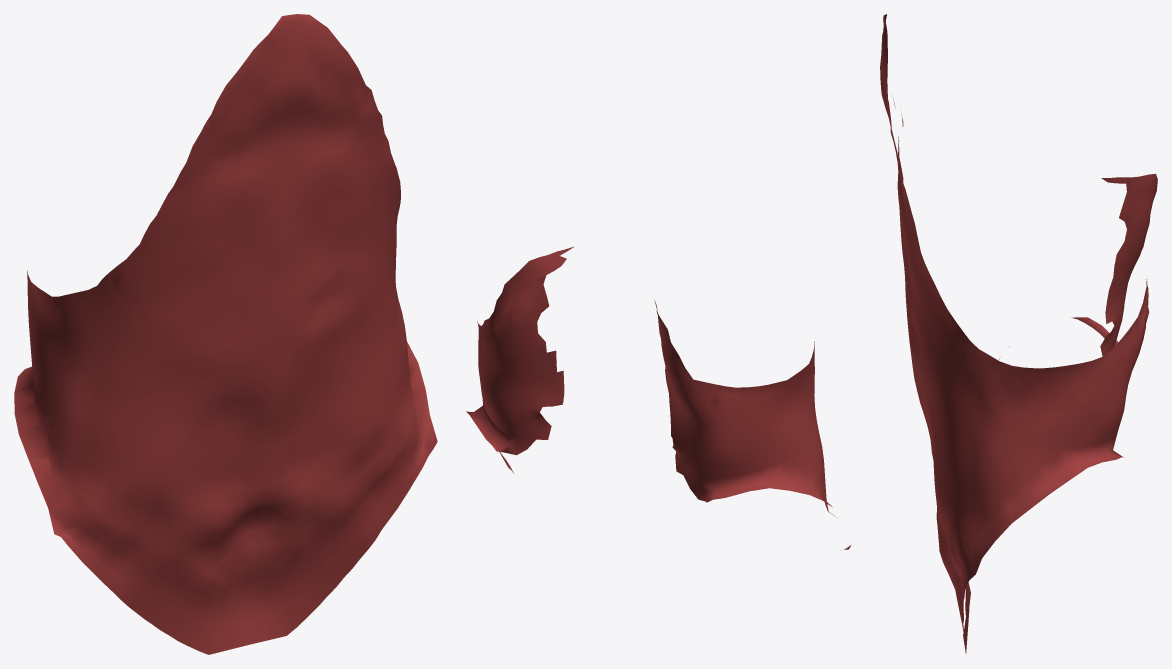
Rendered from transversalis-fascia.glb.
The picture shows the model from 3 angles, left to right: view 1: azimuth 30°, elevation 25°; view 2: azimuth 150°, elevation 25°; view 3: azimuth 270°, elevation 25°; orthographic projection. The views are drawn at different scales.
Visible parts, largest first — view 1: Transversalis fascia; view 2: Transversalis fascia; view 3: Transversalis fascia.
Part boxes in pixels (x1=…): Transversalis fascia: x1=14, y1=14, x2=437, y2=654; Transversalis fascia: x1=466, y1=246, x2=851, y2=550; Transversalis fascia: x1=880, y1=14, x2=1157, y2=653.
Bounding box in the file's own units: 0.2333 × 0.378 × 0.1536.
